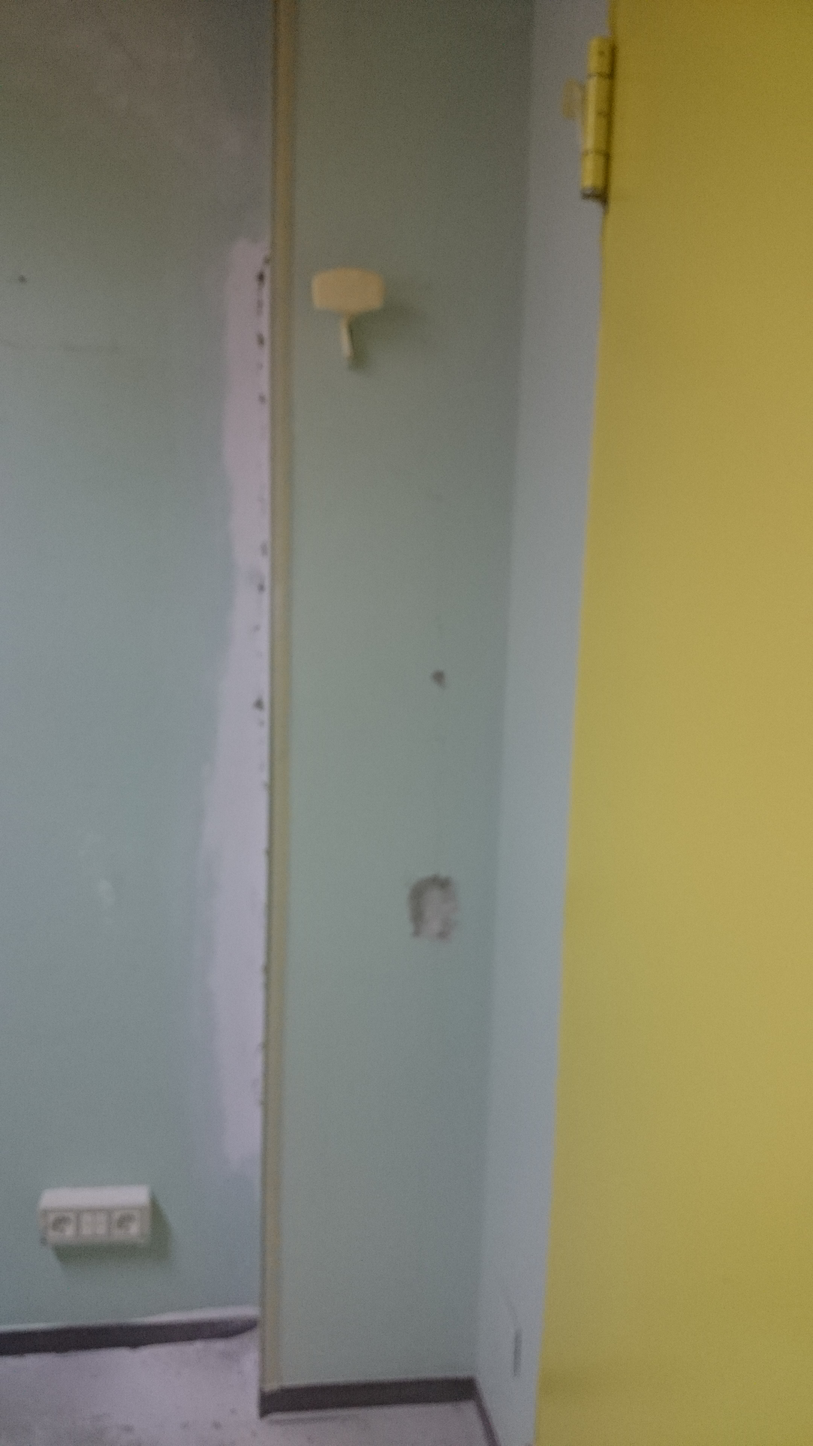Crack: (241, 249, 287, 1132)
